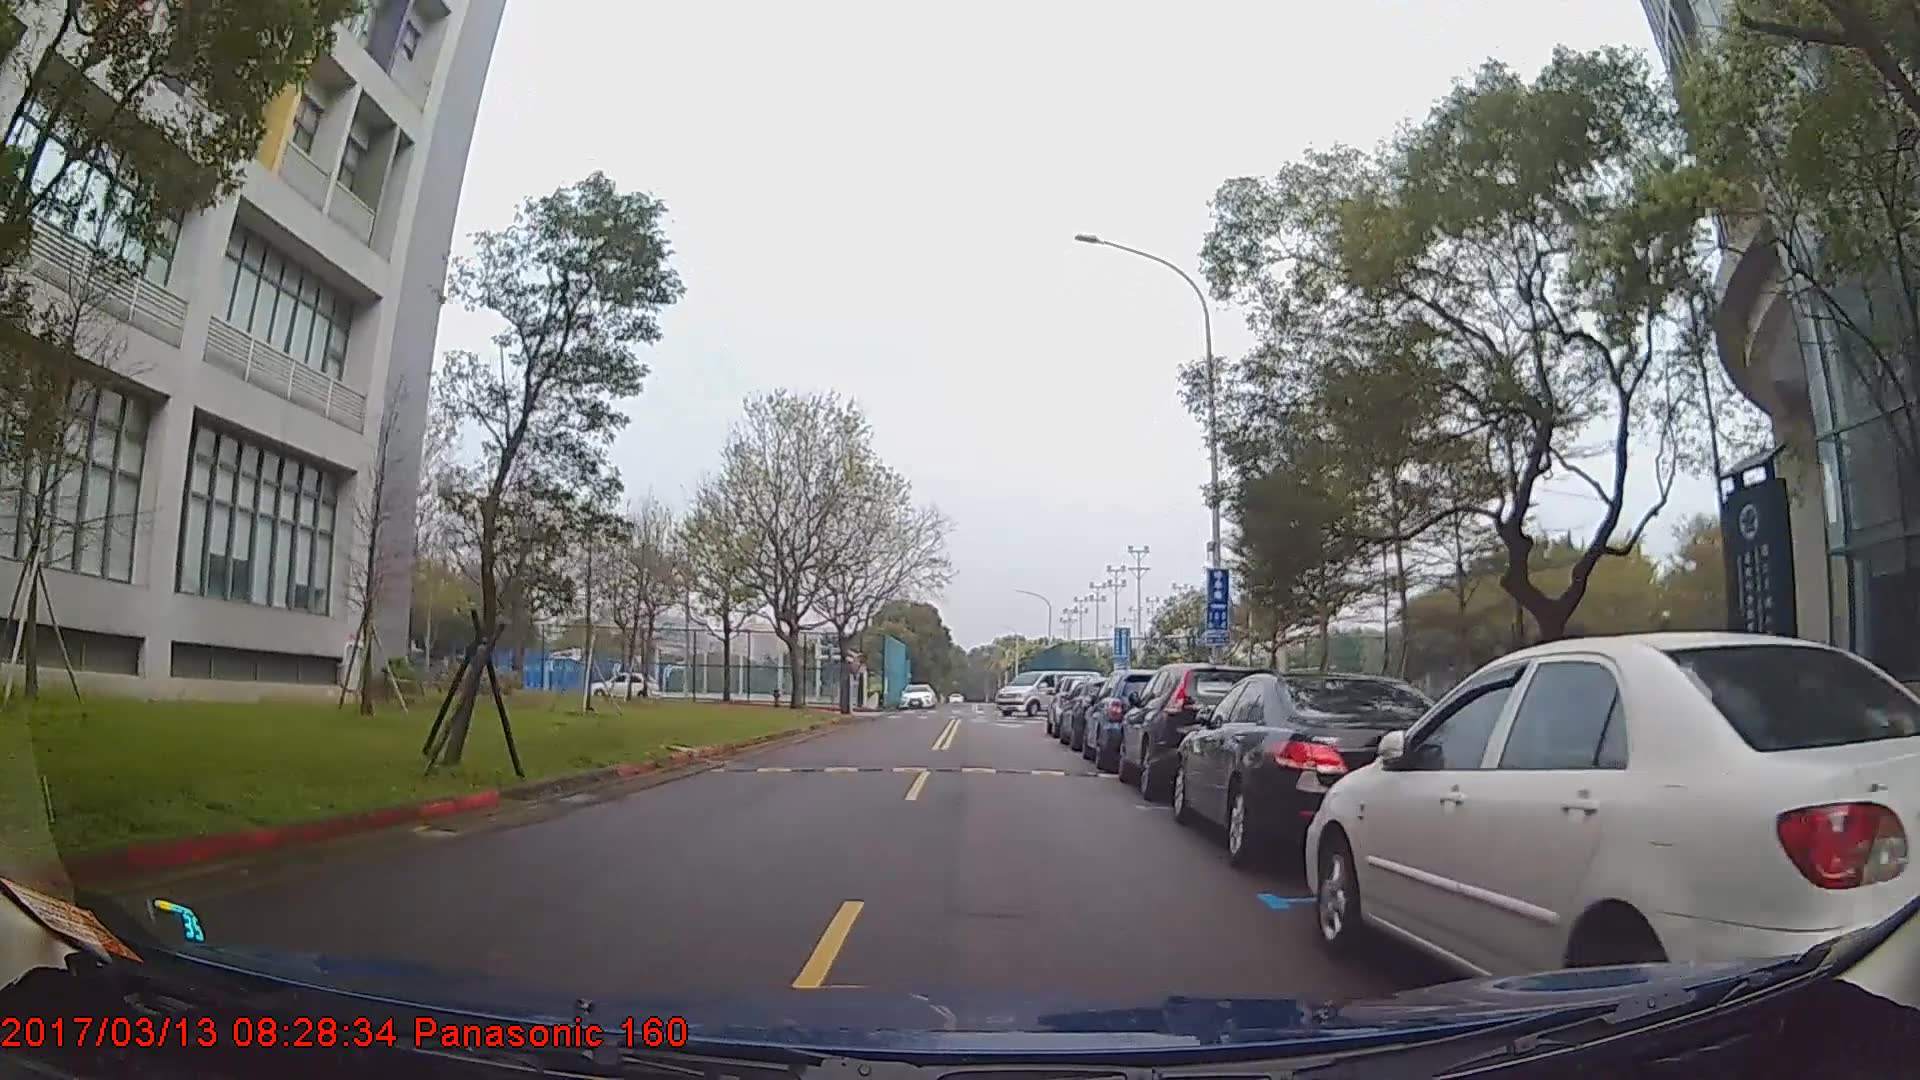vehicle: (1304, 626, 1920, 1026), (1174, 671, 1466, 872), (1114, 661, 1276, 800), (1081, 669, 1178, 773), (996, 669, 1102, 717), (585, 670, 659, 700), (898, 682, 936, 708)
